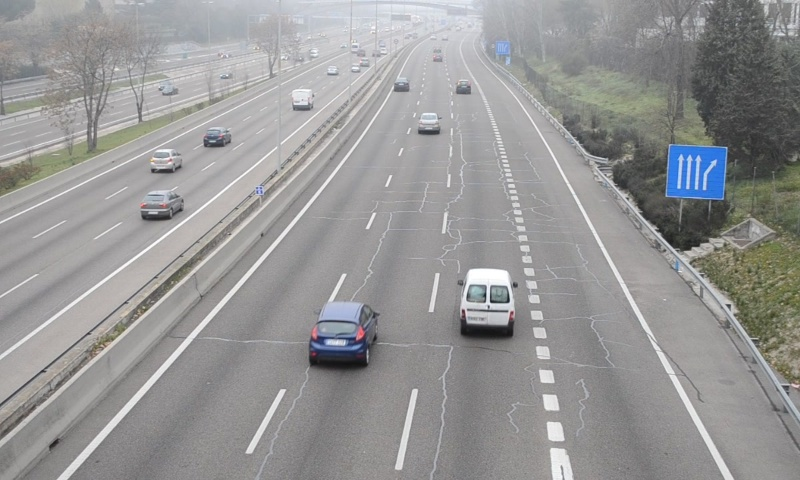car: (310, 302, 377, 362), (418, 112, 441, 132), (393, 76, 410, 91), (456, 79, 471, 94)
van: (460, 268, 516, 332)
